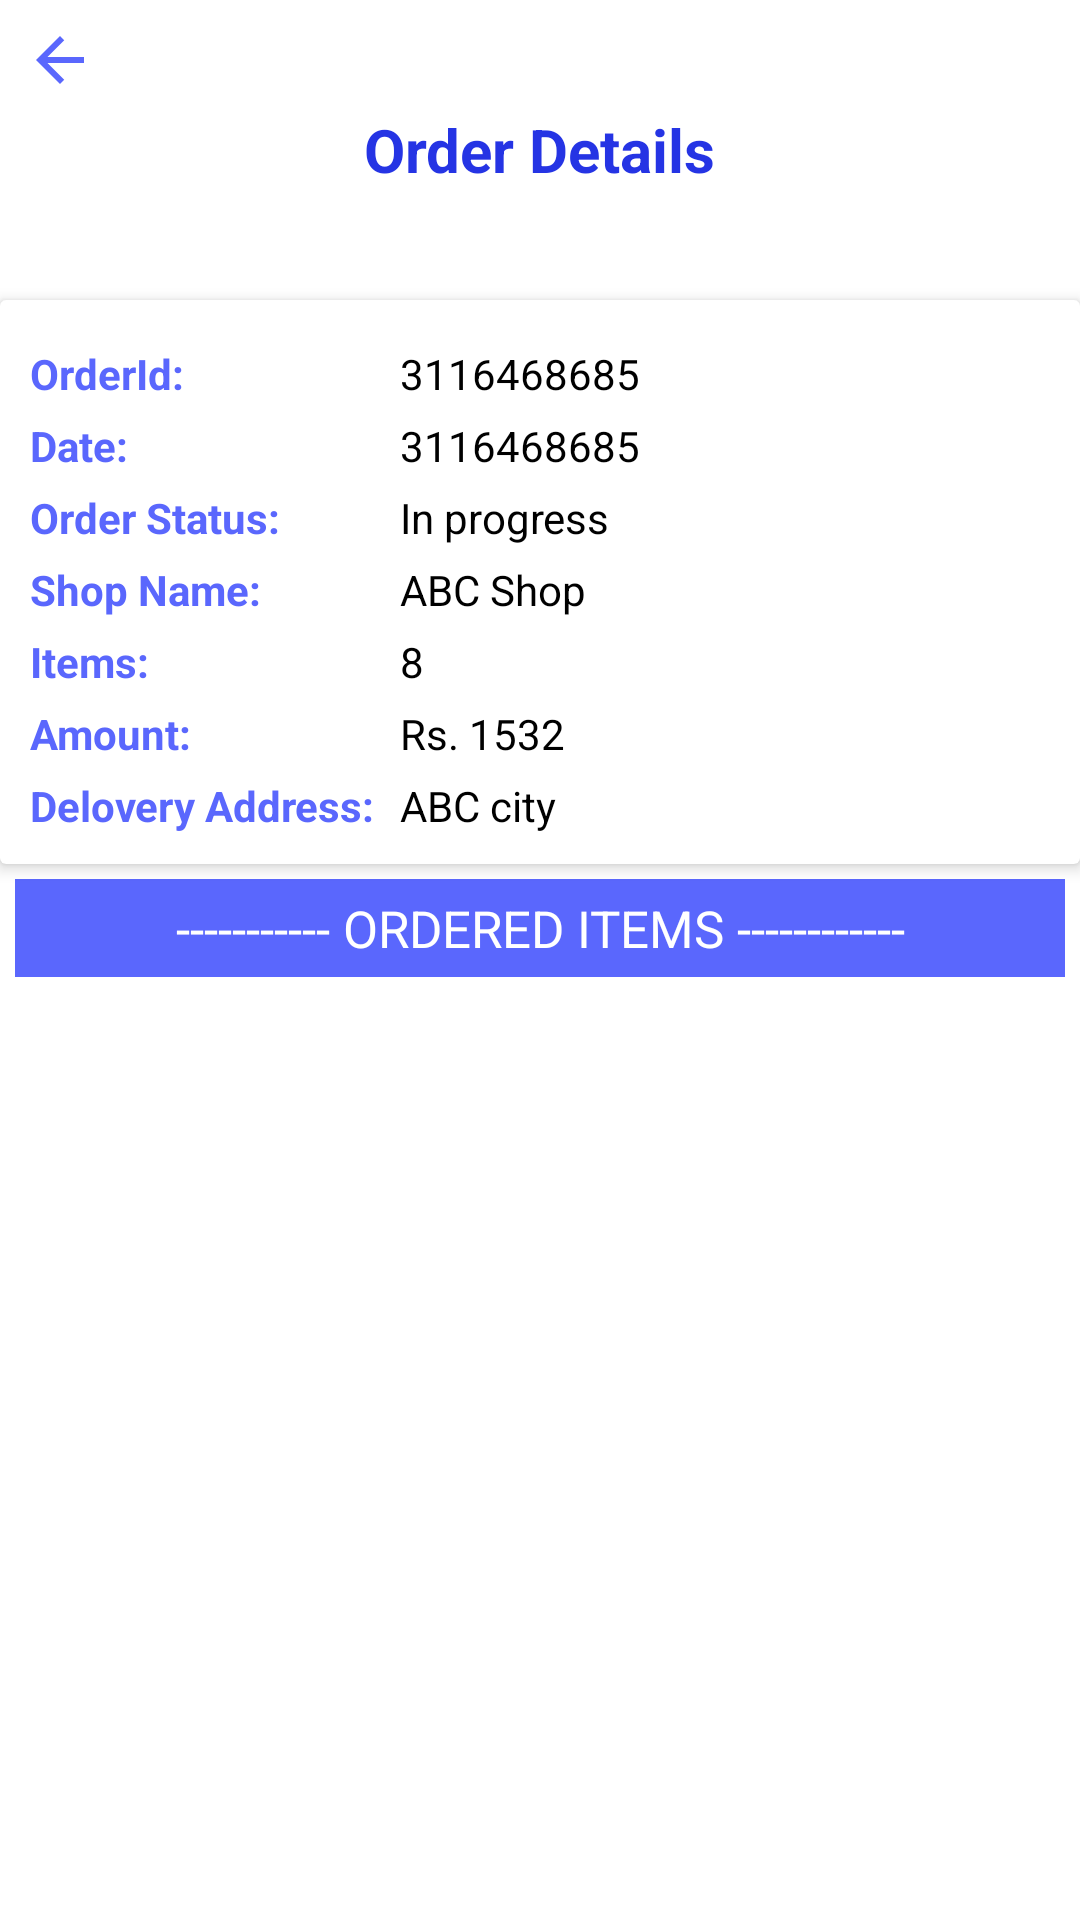

Named icons in this screenshot (1080 × 1920) and their centers, [x,y]:
arrow back: [60,60]
